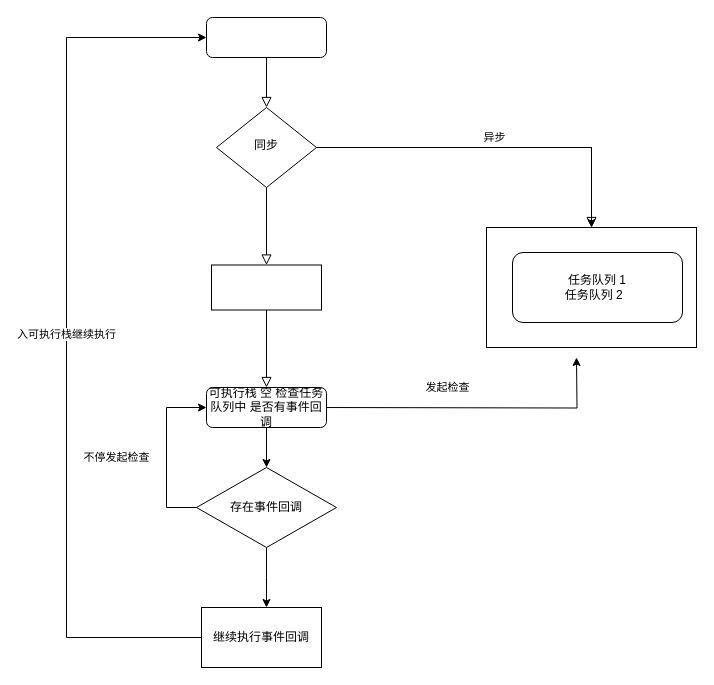
This 714x685 diagram has some shape labels left out. Each missing label, with the box of its shape:
执行栈执行: (206, 16, 326, 58)
继续执行: (210, 264, 322, 310)
